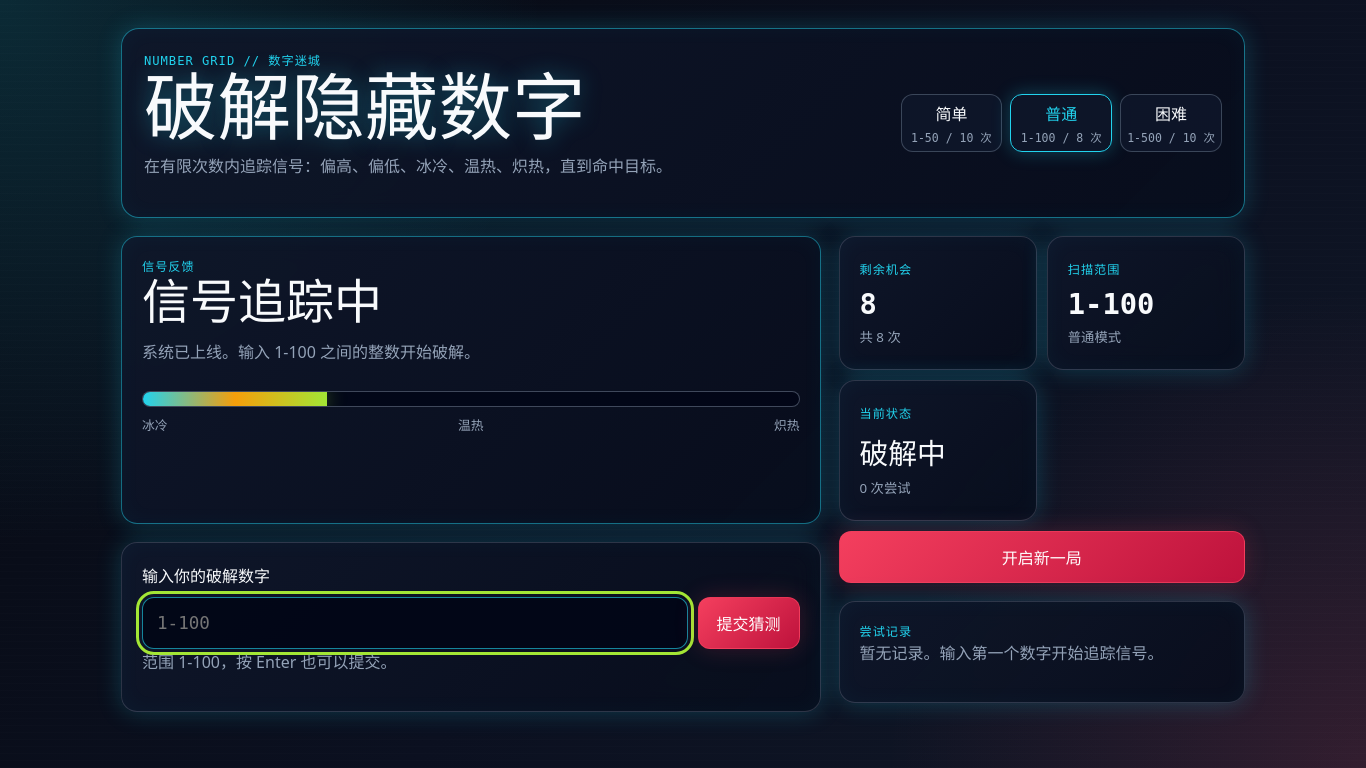
Scenario: App › switches difficulty and updates the range hint
Click the button "困难 1-500 / 10 次": (1171, 123) [1120,94,1222,152]
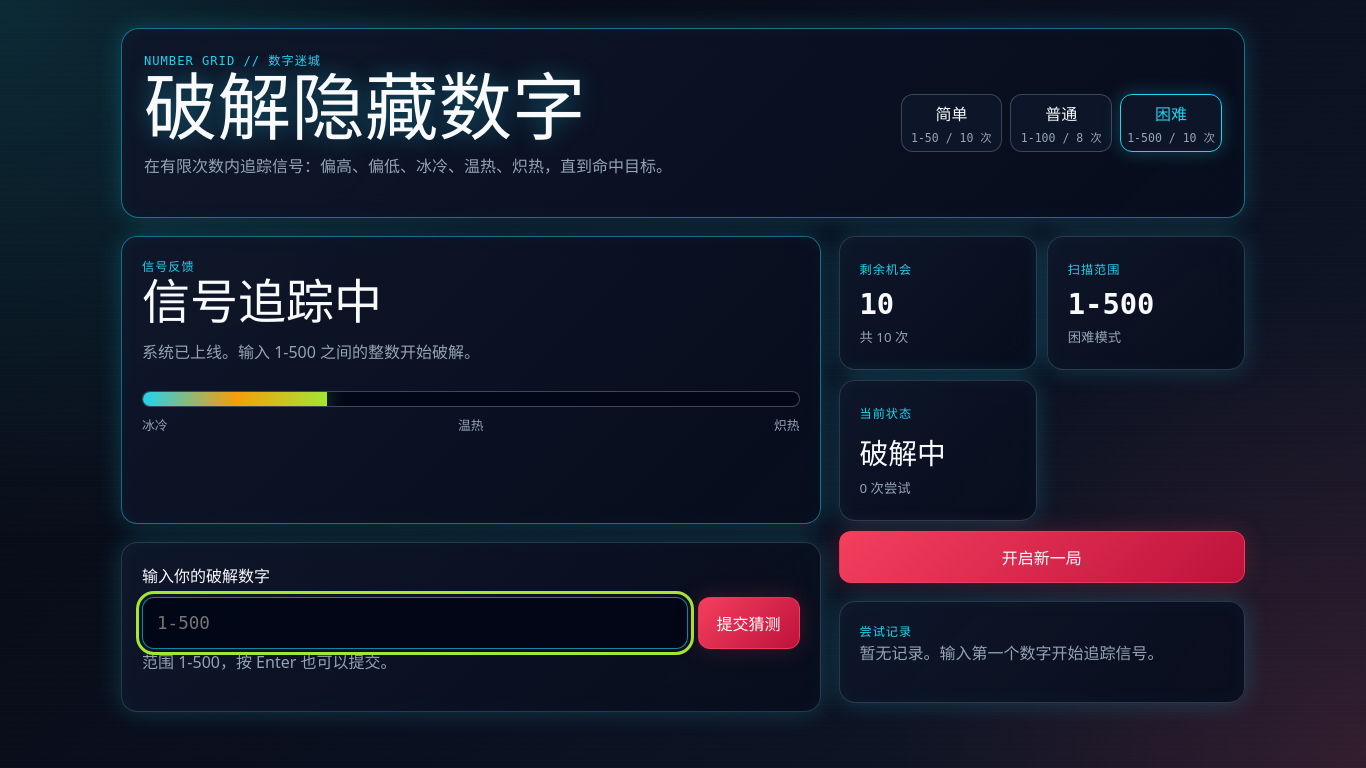
Expected: the text "困难模式" is shown, [1068,328,1121,346]
Expected: the text "范围 1-500，按 Enter 也可以提交。" is shown, [142,651,396,673]
